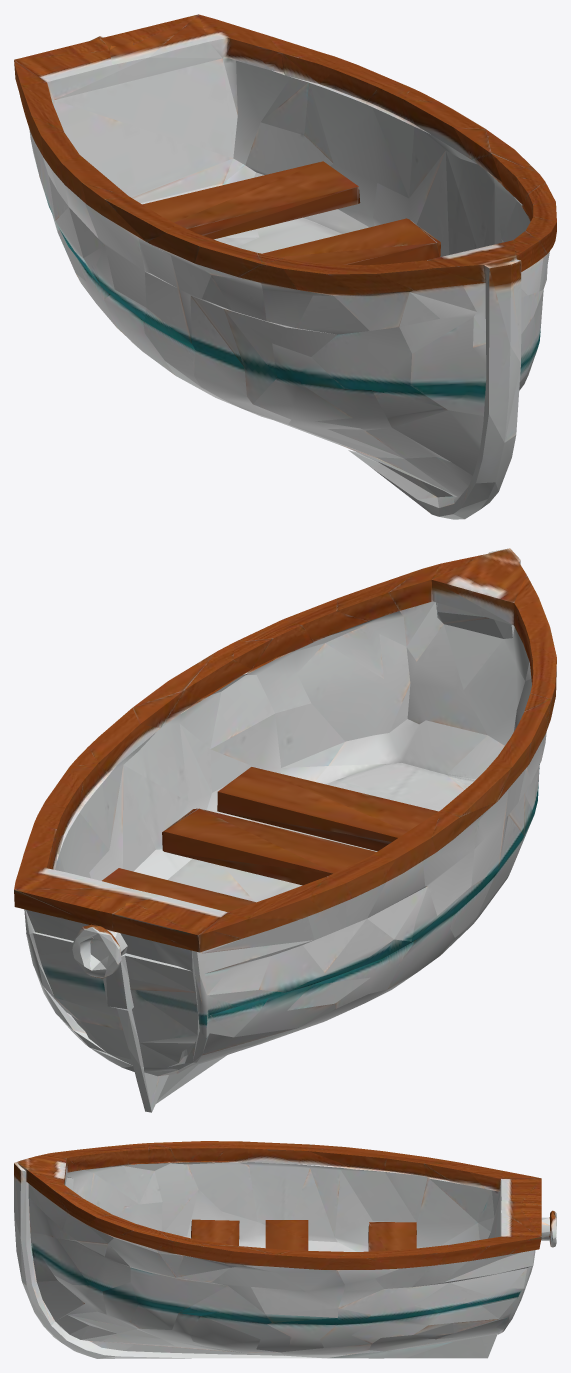
Rendered from rowboat.glb.
The picture shows the model from 3 angles, top to bottom: view 1: azimuth 30°, elevation 25°; view 2: azimuth 150°, elevation 25°; view 3: azimuth 270°, elevation 25°; orthographic projection. The views are drawn at different scales.
Size of the model in its own units: 1.48 by 1.2 by 3.01.
1 material, 1 textured.
